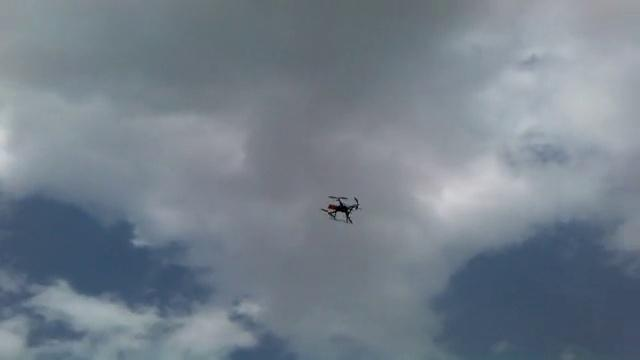drone: (318, 191, 361, 224)
